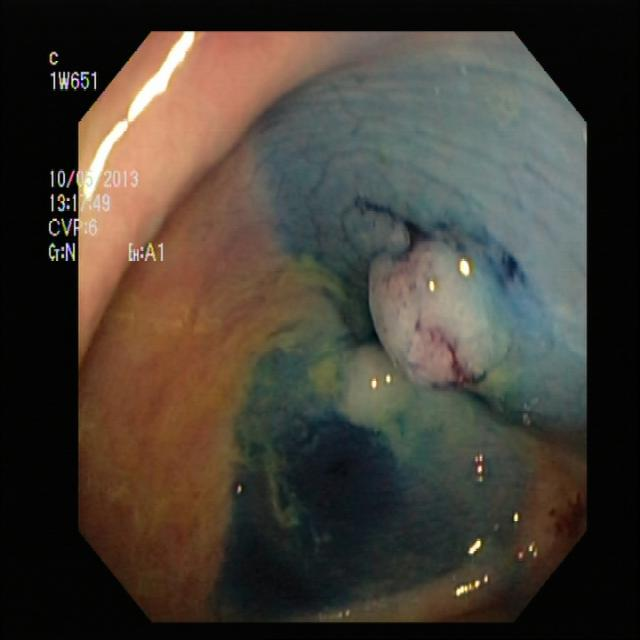dyed-lifted-polyps: (324, 204, 551, 438)
